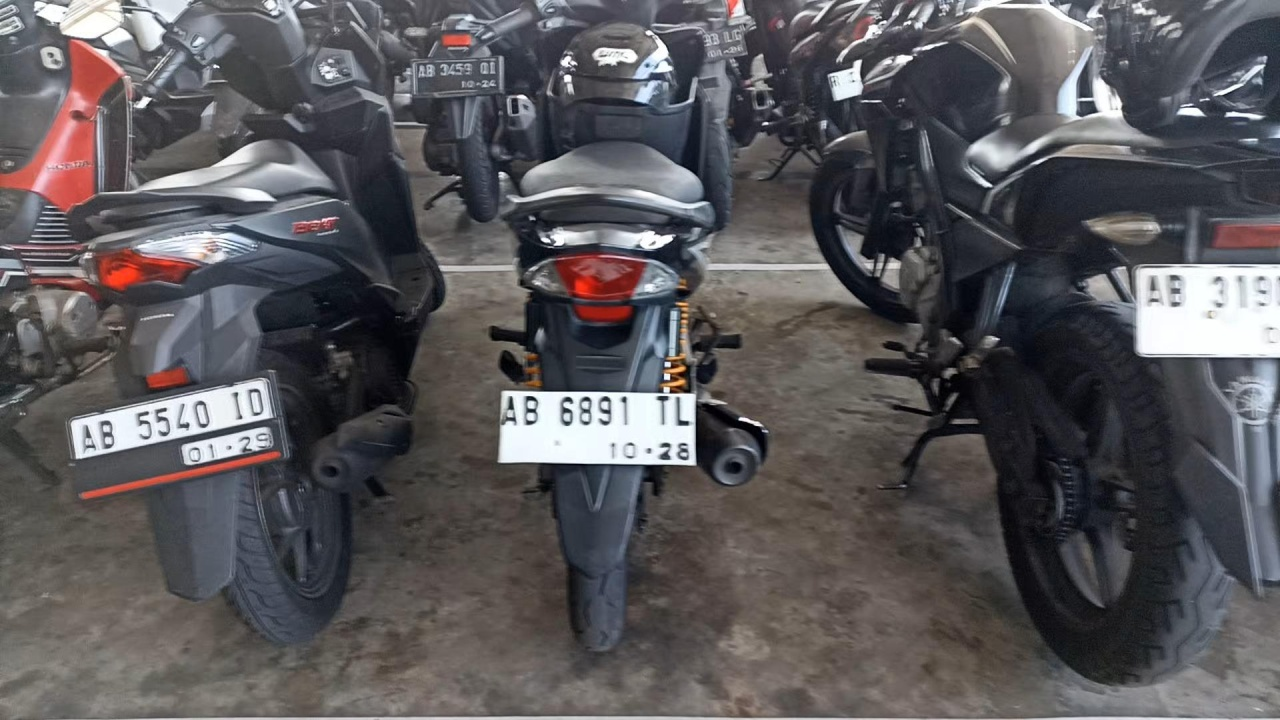plate: (63, 373, 287, 502), (498, 390, 697, 466), (413, 57, 501, 96)
